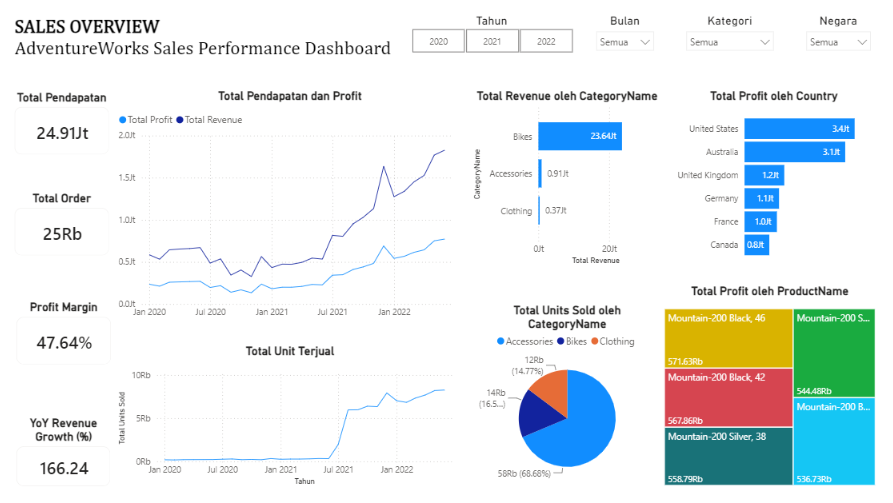

This screenshot's page, from the dashboard's own definition file:
{"tool":"powerbi","page":{"name":"SALES OVERVIEW","canvas":[1280,720],"ordinal":0},"visuals":[{"type":"textbox","box":[18.3,20,556.7,76.7],"z":0},{"type":"slicer","title":"Tahun","fields":{"Values":["Calendar.Date.Variasi.Hierarki Tanggal.Tahun"]},"box":[565.2,20,279,63],"z":1000},{"type":"slicer","title":"Kategori","fields":{"Values":["Product_Categories.CategoryName"]},"box":[972.6,20,145,63],"z":2000},{"type":"slicer","title":"Negara","fields":{"Values":["Territory.Country"]},"box":[1144.2,20,112.5,63],"z":3000},{"type":"slicer","title":"Bulan","fields":{"Values":["Calendar.Date.Variasi.Hierarki Tanggal.Bulan"]},"box":[844.2,20,102.5,63],"z":4000},{"type":"cardVisual","title":"Total Order","fields":{"Data":["Sales.Total Orders"]},"box":[18.5,274.1,145,98],"z":6000},{"type":"cardVisual","title":"Total Pendapatan","fields":{"Data":["Sales.Total Revenue"]},"box":[18.8,130.5,145,98],"z":7000},{"type":"cardVisual","title":"Profit Margin","fields":{"Data":["Avg(Product.MARGIN)"]},"box":[21,429.6,145,98],"z":8000},{"type":"lineChart","title":"Total Pendapatan dan Profit","fields":{"Category":["Calendar.Date.Variasi.Hierarki Tanggal.Tahun","Calendar.Date.Variasi.Hierarki Tanggal.Bulan"],"Y":["Sales.Total Profit","Sales.Total Revenue"]},"box":[166.7,122.2,500,343.2],"z":10000},{"type":"clusteredBarChart","fields":{"Category":["Product_Categories.CategoryName"],"Y":["Sales.Total Revenue"]},"box":[674.1,122.2,277.8,261.7],"z":11000},{"type":"pieChart","fields":{"Category":["Product_Categories.CategoryName"],"Y":["Sales.Total Units Sold"]},"box":[680.2,429.6,266.7,270.4],"z":12000},{"type":"lineChart","title":"Total Unit Terjual","fields":{"Category":["Calendar.Date.Variasi.Hierarki Tanggal.Tahun","Calendar.Date.Variasi.Hierarki Tanggal.Bulan"],"Y":["Sales.Total Units Sold"]},"box":[166.7,492.6,500,207.4],"z":13000},{"type":"treemap","fields":{"Group":["Product.ProductName"],"Values":["Sales.Total Profit"]},"box":[946.9,407.4,311.1,292.6],"z":14000},{"type":"barChart","fields":{"Category":["Territory.Country"],"Y":["Sales.Total Profit"]},"box":[959.3,122.2,300,261.7],"z":15000},{"type":"cardVisual","title":"YoY Revenue Growth (%)","fields":{"Data":["Sales.YoY Revenue Growth %"]},"box":[21.4,595.7,144.3,105.7],"z":15001}]}

Visuals, with their boxes in screenshot pixels (x1, y1, x2, y2), scaled from the page's 1280x720 canvas onto the 893x503 screenshot:
textbox: BBox(13, 14, 401, 68)
"Tahun" slicer: BBox(394, 14, 589, 58)
"Kategori" slicer: BBox(679, 14, 780, 58)
"Negara" slicer: BBox(798, 14, 877, 58)
"Bulan" slicer: BBox(589, 14, 660, 58)
"Total Order" cardVisual: BBox(13, 191, 114, 260)
"Total Pendapatan" cardVisual: BBox(13, 91, 114, 160)
"Profit Margin" cardVisual: BBox(15, 300, 116, 369)
"Total Pendapatan dan Profit" lineChart: BBox(116, 85, 465, 325)
clusteredBarChart - Product_Categories.CategoryName x Sales.Total Revenue: BBox(470, 85, 664, 268)
pieChart - Product_Categories.CategoryName x Sales.Total Units Sold: BBox(475, 300, 661, 489)
"Total Unit Terjual" lineChart: BBox(116, 344, 465, 489)
treemap - Product.ProductName x Sales.Total Profit: BBox(661, 285, 878, 489)
barChart - Territory.Country x Sales.Total Profit: BBox(669, 85, 879, 268)
"YoY Revenue Growth (%)" cardVisual: BBox(15, 416, 116, 490)
